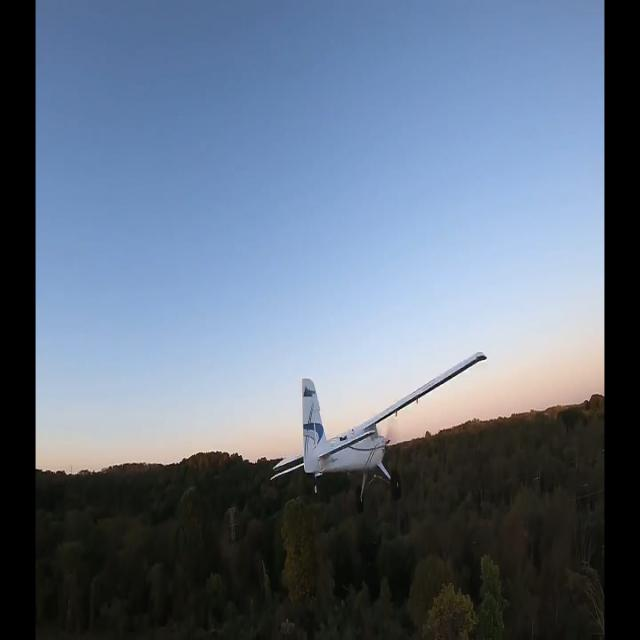iha: (270, 348, 488, 516)
